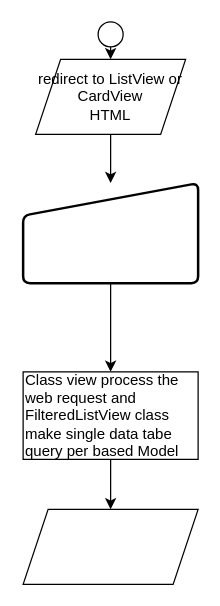
Some shapes in this 220 by 606 pixel diagram are drawn without their labels. The shapes that lost their labels are listed below. From the top down, each one's centre as x and y in pixels, then its label:
At point (110, 232): "Change Filter options via Filter form. Apply or reset Filter form".
At point (110, 546): "Render Filter Form and query result on the HTML".
